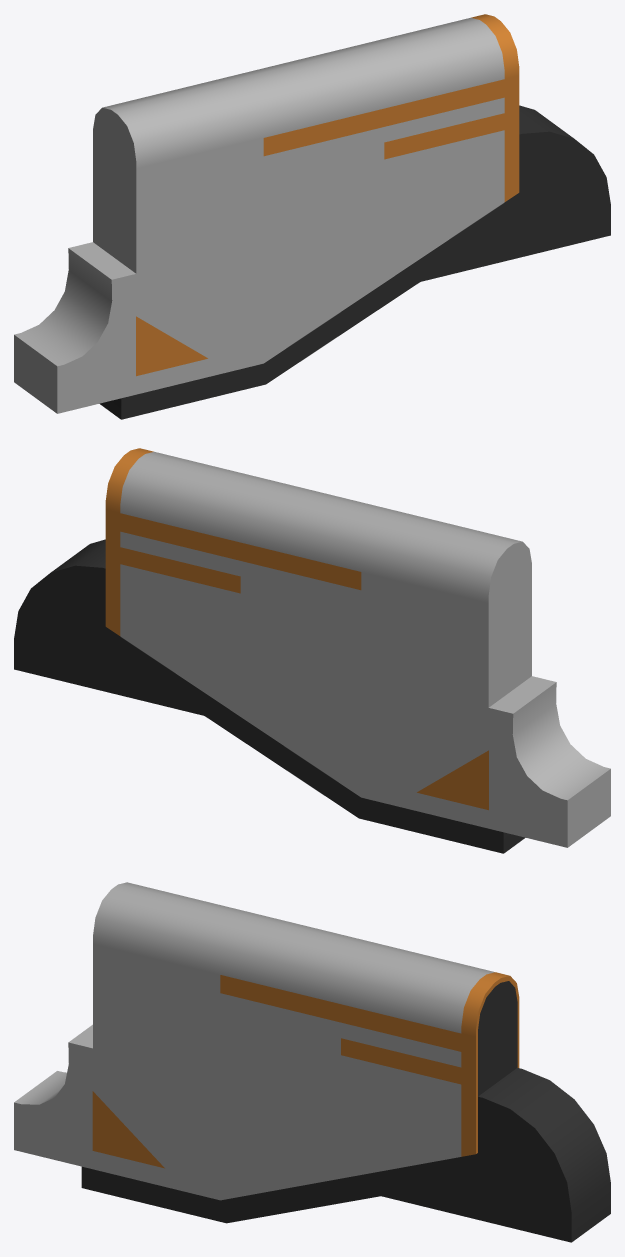
The model's file is Body_Grenade_1.gltf.
The picture shows the model from 3 angles, top to bottom: view 1: azimuth 30°, elevation 25°; view 2: azimuth 150°, elevation 25°; view 3: azimuth 330°, elevation 25°; orthographic projection.
Visible parts, largest first — view 1: Body_Grenade_1; view 2: Body_Grenade_1; view 3: Body_Grenade_1.
Part boxes in pixels (<box>): Body_Grenade_1: <box>14,14,610,419</box>; Body_Grenade_1: <box>14,448,610,853</box>; Body_Grenade_1: <box>14,882,610,1242</box>.
Size of the model in its own units: 0.8098 by 0.4037 by 0.1094.
